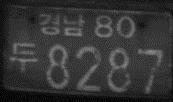0: (116, 15, 135, 38)
2: (74, 44, 103, 93)
7: (136, 47, 163, 95)
8: (44, 43, 70, 90), (106, 46, 132, 93), (94, 14, 114, 38)
경남_O: (38, 11, 85, 37)
두: (9, 39, 37, 75)
